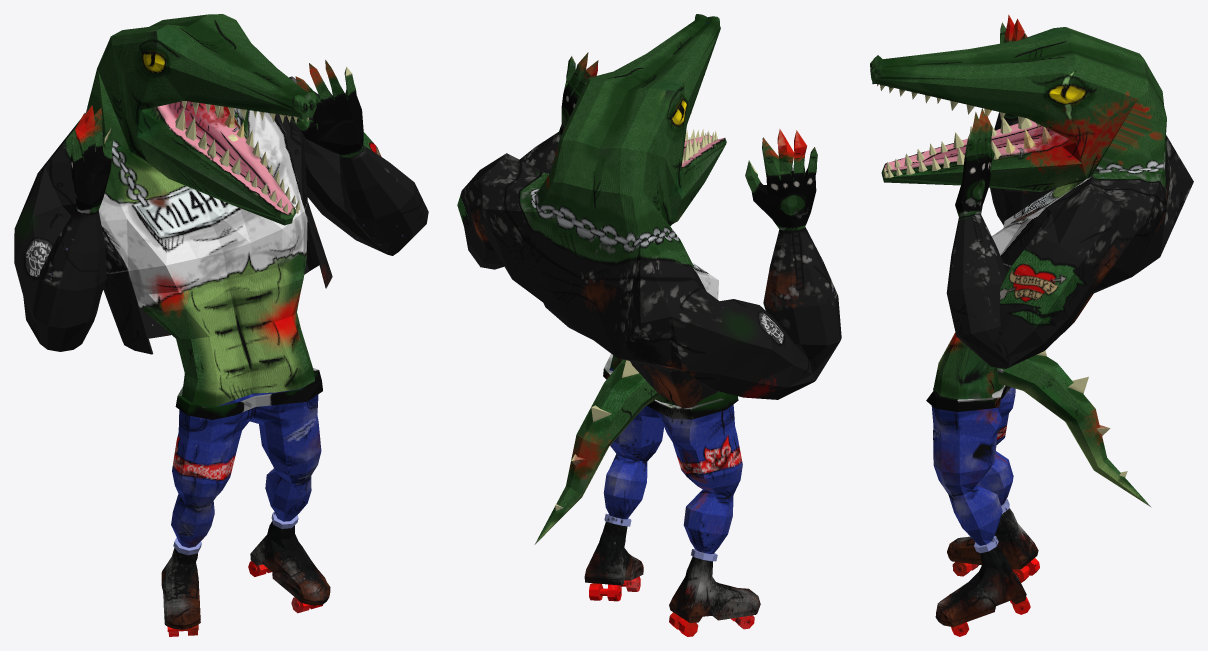
Rendered from cocodrilaBonesSelect_000007.obj.
3 renders of one model, left to right at view 1: azimuth 30°, elevation 25°; view 2: azimuth 150°, elevation 25°; view 3: azimuth 270°, elevation 25°, orthographic.
Parts seen in each view (by area): view 1: Crocodile.002_Cylinder.002; view 2: Crocodile.002_Cylinder.002; view 3: Crocodile.002_Cylinder.002.
Part boxes in pixels (x1,y1,x2,y2): Crocodile.002_Cylinder.002: [14, 14, 428, 636]; Crocodile.002_Cylinder.002: [457, 14, 841, 636]; Crocodile.002_Cylinder.002: [870, 14, 1193, 636].
Size of the model in its own units: 4.54 by 6.59 by 3.47.
